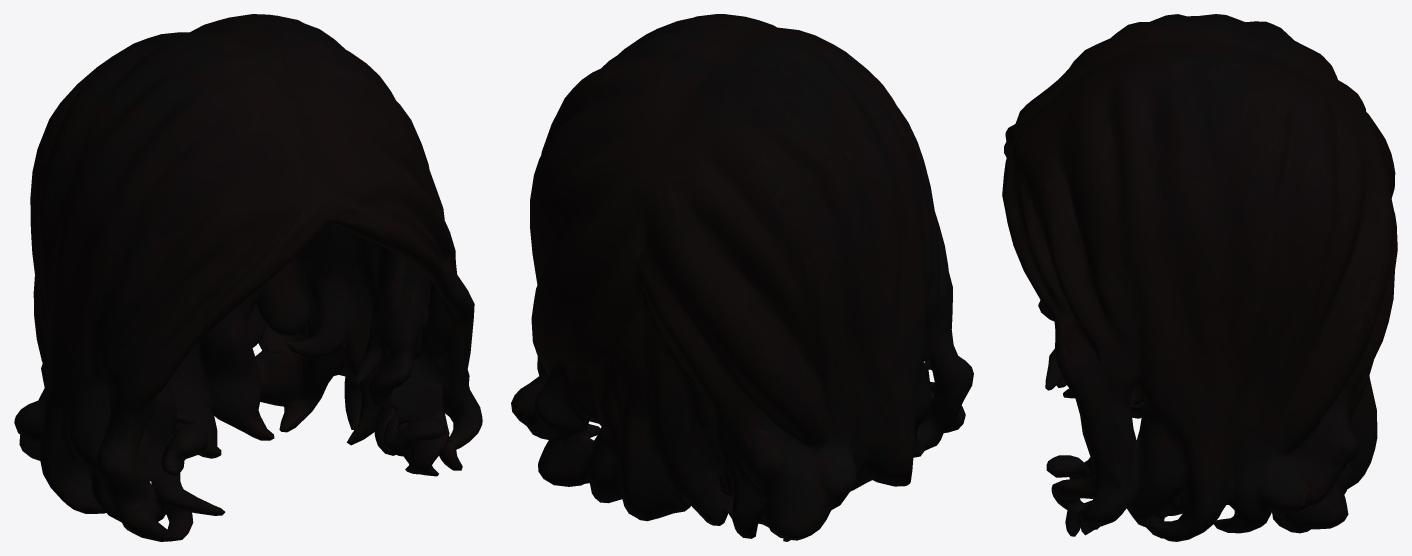
The model's file is Hirono Girl Hair1.glb.
3 renders of one model, left to right at view 1: azimuth 30°, elevation 25°; view 2: azimuth 150°, elevation 25°; view 3: azimuth 270°, elevation 25°, orthographic. The views are drawn at different scales.
Parts seen in each view (by area): view 1: hair.003; view 2: hair.003; view 3: hair.003.
Part boxes in pixels (box(x1,y1,x2,y2)): hair.003: box(14, 14, 482, 541); hair.003: box(511, 14, 973, 541); hair.003: box(1002, 14, 1397, 541).
Bounding box in the file's own units: 0.3702 × 0.414 × 0.3298.
1 material, 1 textured.
